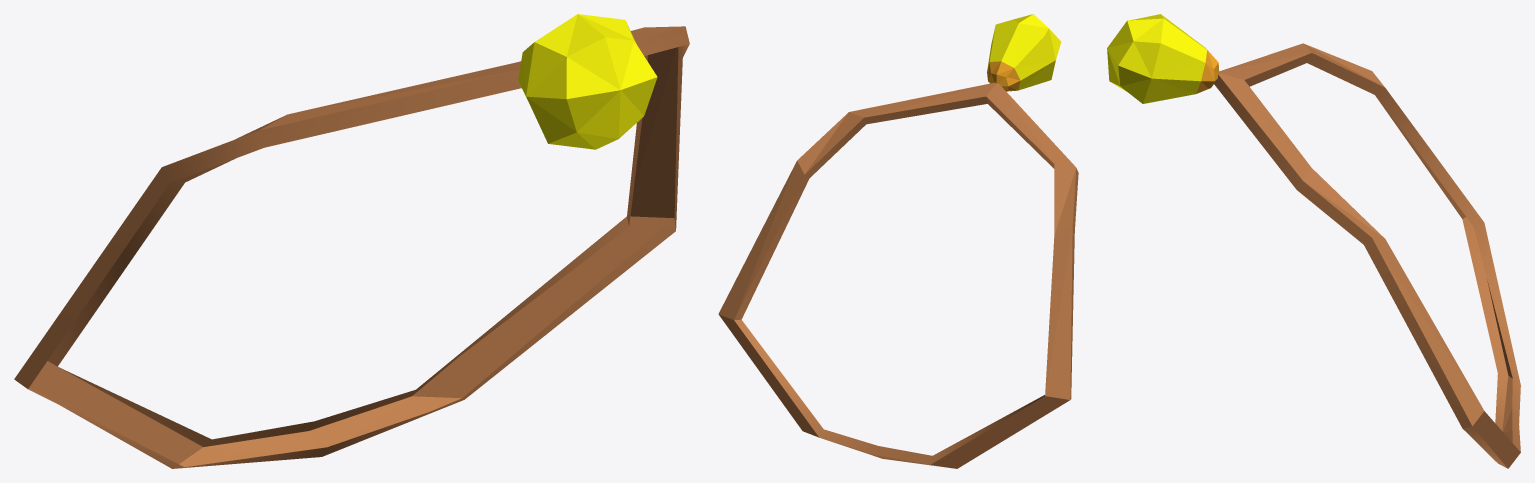
File: Necklace 03.FBX
3 renders of one model, left to right at view 1: azimuth 30°, elevation 25°; view 2: azimuth 150°, elevation 25°; view 3: azimuth 270°, elevation 25°, orthographic. The views are drawn at different scales.
Visible parts, largest first — view 1: Necklace 03; view 2: Necklace 03; view 3: Necklace 03.
Part boxes in pixels (left/top/right/bottom): Necklace 03: left=14, top=14, right=689, bottom=468; Necklace 03: left=718, top=14, right=1078, bottom=468; Necklace 03: left=1107, top=14, right=1520, bottom=468.
Bounding box in the file's own units: 32.82 × 26.92 × 29.92.
1 material, 1 textured.
